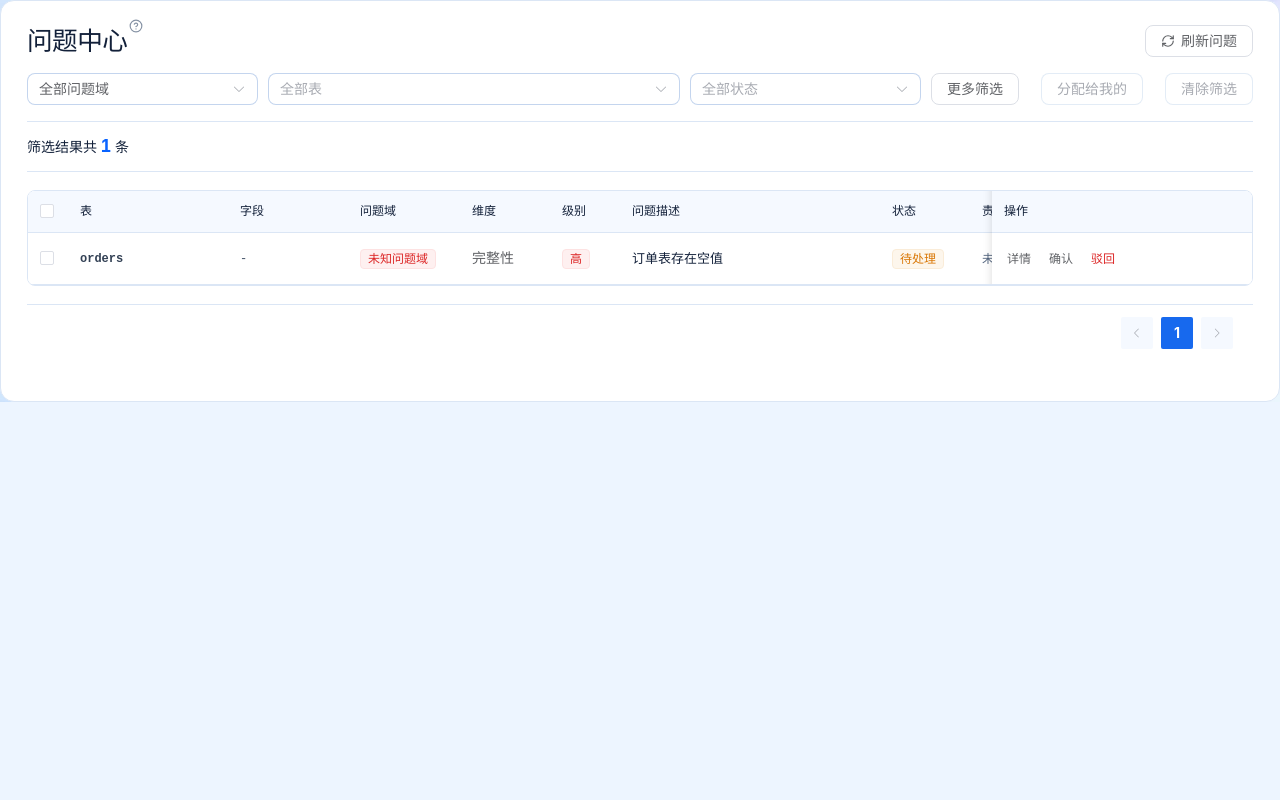
Scenario: IssueList 的能力控制 › 没有发布域能力时不请求同表治理记录
Click the button "详情": (1019, 260) left=1004, top=250, right=1034, bottom=268
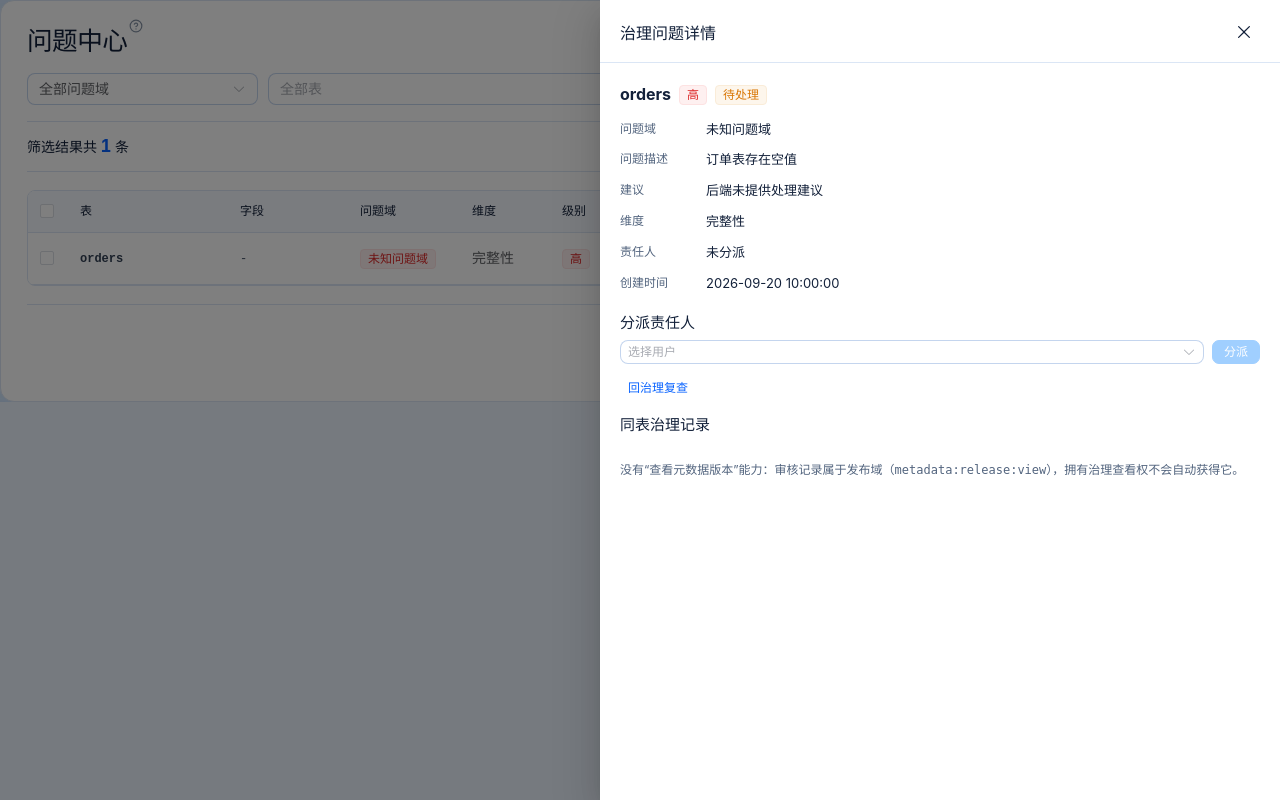
Expected: the text "审核记录属于发布域" is shown, left=620, top=462, right=895, bottom=477
